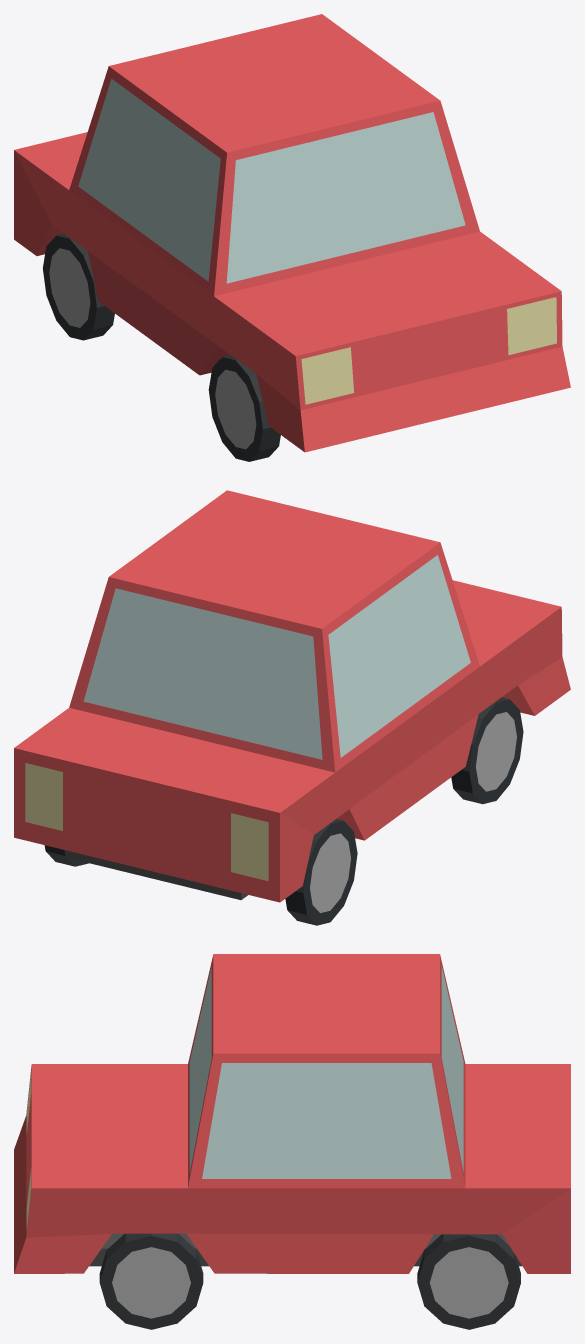
File: Carro01.FBX
The picture shows the model from 3 angles, top to bottom: view 1: azimuth 30°, elevation 25°; view 2: azimuth 150°, elevation 25°; view 3: azimuth 270°, elevation 25°; orthographic projection. The views are drawn at different scales.
Visible parts, largest first — view 1: Carro01; view 2: Carro01; view 3: Carro01.
Boxes of the visible parts, x1,y1,x2,y2 form: Carro01: (14, 14, 570, 461); Carro01: (14, 490, 570, 925); Carro01: (14, 954, 570, 1329).
Bounding box in the file's own units: 59.27 × 58.85 × 112.
